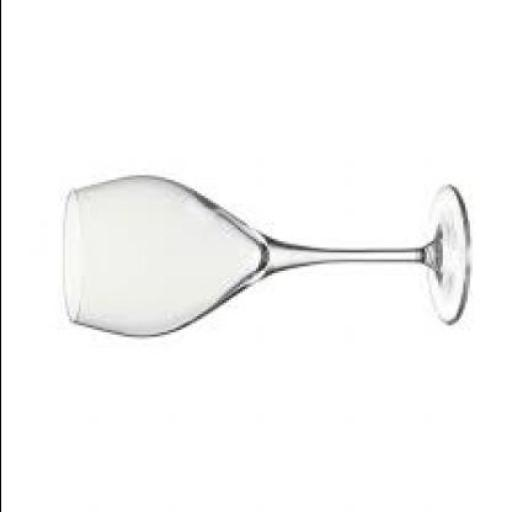glass: (59, 177, 469, 337)
